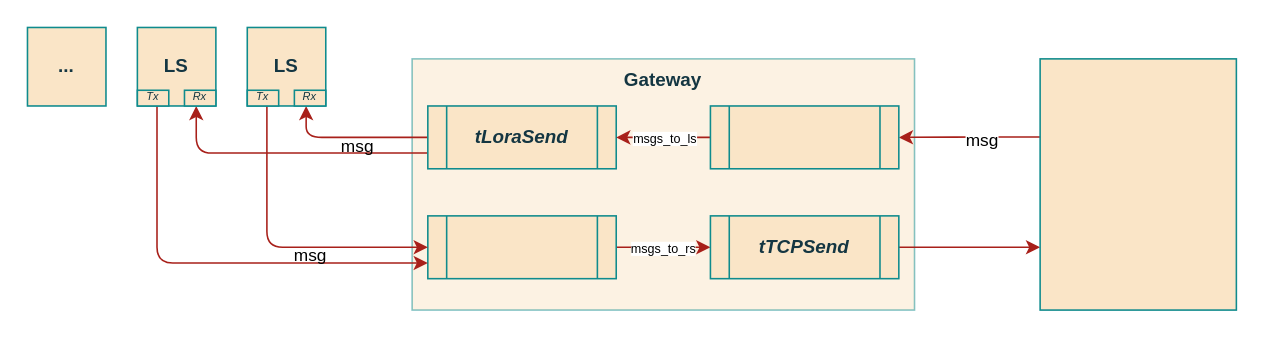
This 1264x338 diagram has some shape labels left out. The centre of each missing label's shape, as x and y in pixels:
"Remote Server" goes at point 1137,183.
"tLoraRecv" goes at point 521,246.
"tTCPRecv" goes at point 804,136.
